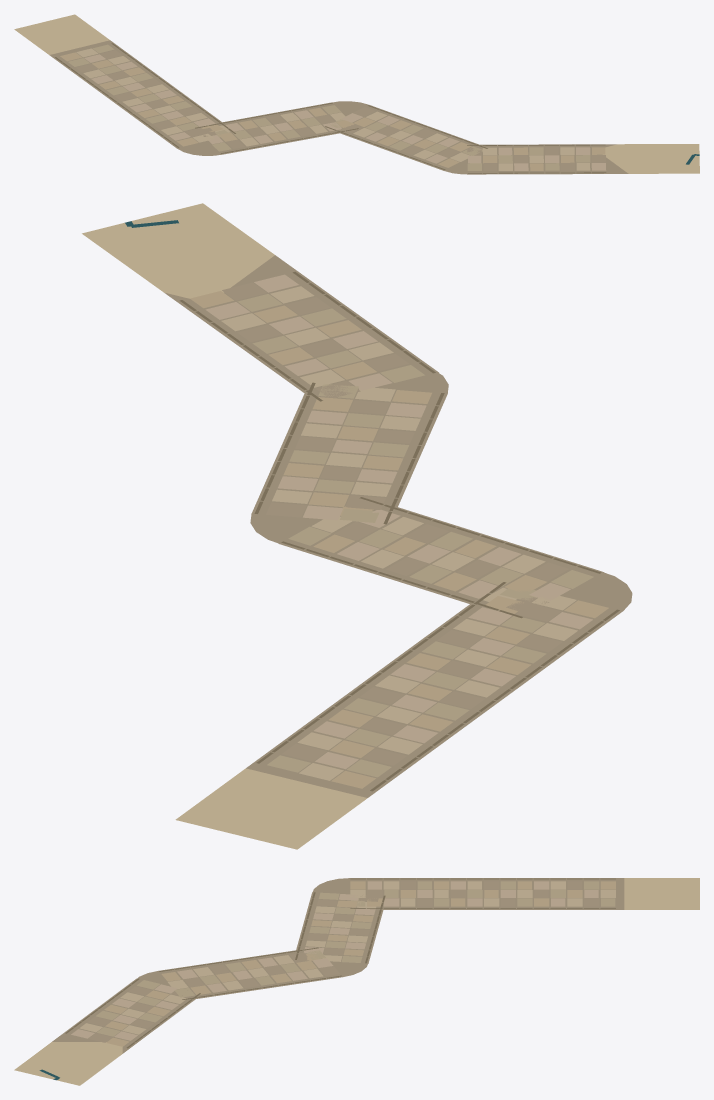
Rendered from route-atk-steps_s-walk.glb.
The picture shows the model from 3 angles, top to bottom: view 1: azimuth 30°, elevation 25°; view 2: azimuth 150°, elevation 25°; view 3: azimuth 270°, elevation 25°; orthographic projection. The views are drawn at different scales.
Parts seen in each view (by area): view 1: Surveyed floor · route-atk-steps_s-walk, Spice Gate to Reed Steps / #C7B399, Spice Gate to Reed Steps / #C9B798, Spice Gate to Reed Steps / #C2AE8D, Spice Gate to Reed Steps / #AE9D84, Spice Gate to Reed Steps / #BDAD8E, Spice Gate to Reed Steps / #85775D; view 2: Surveyed floor · route-atk-steps_s-walk, Spice Gate to Reed Steps / #BDAD8E, Spice Gate to Reed Steps / #C7B399, Spice Gate to Reed Steps / #AE9D84, Spice Gate to Reed Steps / #C9B798, Spice Gate to Reed Steps / #C2AE8D, Spice Gate to Reed Steps / #85775D; view 3: Surveyed floor · route-atk-steps_s-walk, Spice Gate to Reed Steps / #C7B399, Spice Gate to Reed Steps / #BDAD8E, Spice Gate to Reed Steps / #C9B798, Spice Gate to Reed Steps / #C2AE8D, Spice Gate to Reed Steps / #AE9D84, Spice Gate to Reed Steps / #85775D.
Part boxes in pixels (<box>): Surveyed floor · route-atk-steps_s-walk: <box>14,14,699,174</box>; Spice Gate to Reed Steps / #C7B399: <box>84,54,606,170</box>; Spice Gate to Reed Steps / #C9B798: <box>76,48,590,170</box>; Spice Gate to Reed Steps / #C2AE8D: <box>60,52,605,170</box>; Spice Gate to Reed Steps / #AE9D84: <box>76,50,605,170</box>; Spice Gate to Reed Steps / #BDAD8E: <box>68,44,590,170</box>; Spice Gate to Reed Steps / #85775D: <box>55,43,606,173</box>; Surveyed floor · route-atk-steps_s-walk: <box>82,203,632,849</box>; Spice Gate to Reed Steps / #BDAD8E: <box>237,294,593,777</box>; Spice Gate to Reed Steps / #C7B399: <box>205,274,592,769</box>; Spice Gate to Reed Steps / #AE9D84: <box>222,282,568,765</box>; Spice Gate to Reed Steps / #C9B798: <box>221,286,577,780</box>; Spice Gate to Reed Steps / #C2AE8D: <box>190,291,608,788</box>; Spice Gate to Reed Steps / #85775D: <box>179,271,619,791</box>; Surveyed floor · route-atk-steps_s-walk: <box>14,878,699,1085</box>; Spice Gate to Reed Steps / #C7B399: <box>71,881,598,1040</box>; Spice Gate to Reed Steps / #BDAD8E: <box>96,881,615,1036</box>; Spice Gate to Reed Steps / #C9B798: <box>79,881,615,1034</box>; Spice Gate to Reed Steps / #C2AE8D: <box>104,881,615,1046</box>; Spice Gate to Reed Steps / #AE9D84: <box>87,881,599,1042</box>; Spice Gate to Reed Steps / #85775D: <box>65,878,615,1048</box>.
Bounding box in the file's own units: 51.97 × 0.026 × 72.48.
